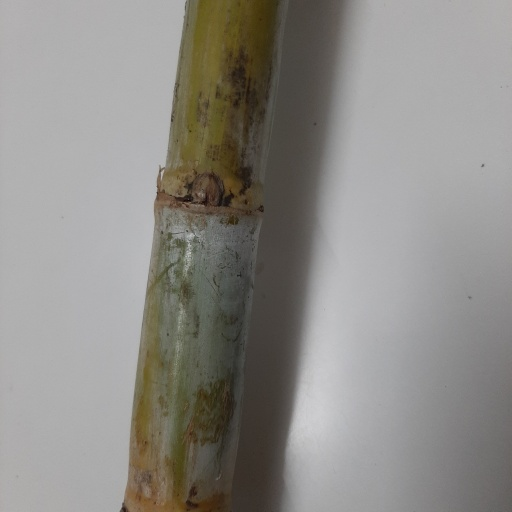Bud: (190, 173, 220, 206)
